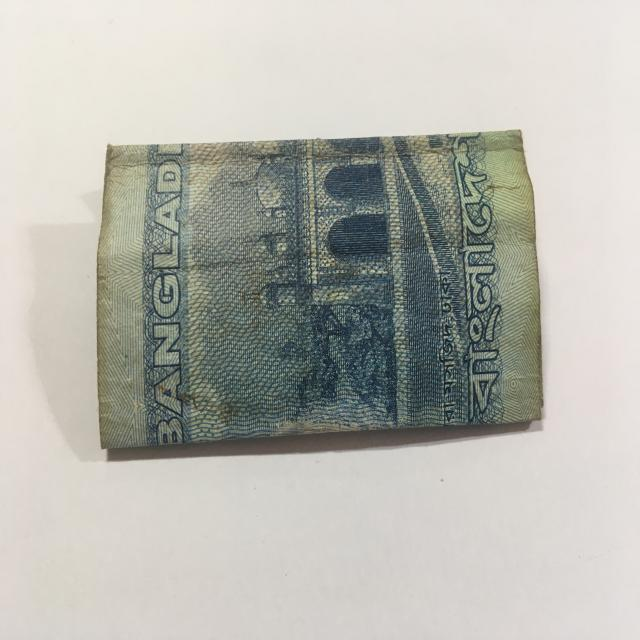Taka: (95, 127, 543, 451)
